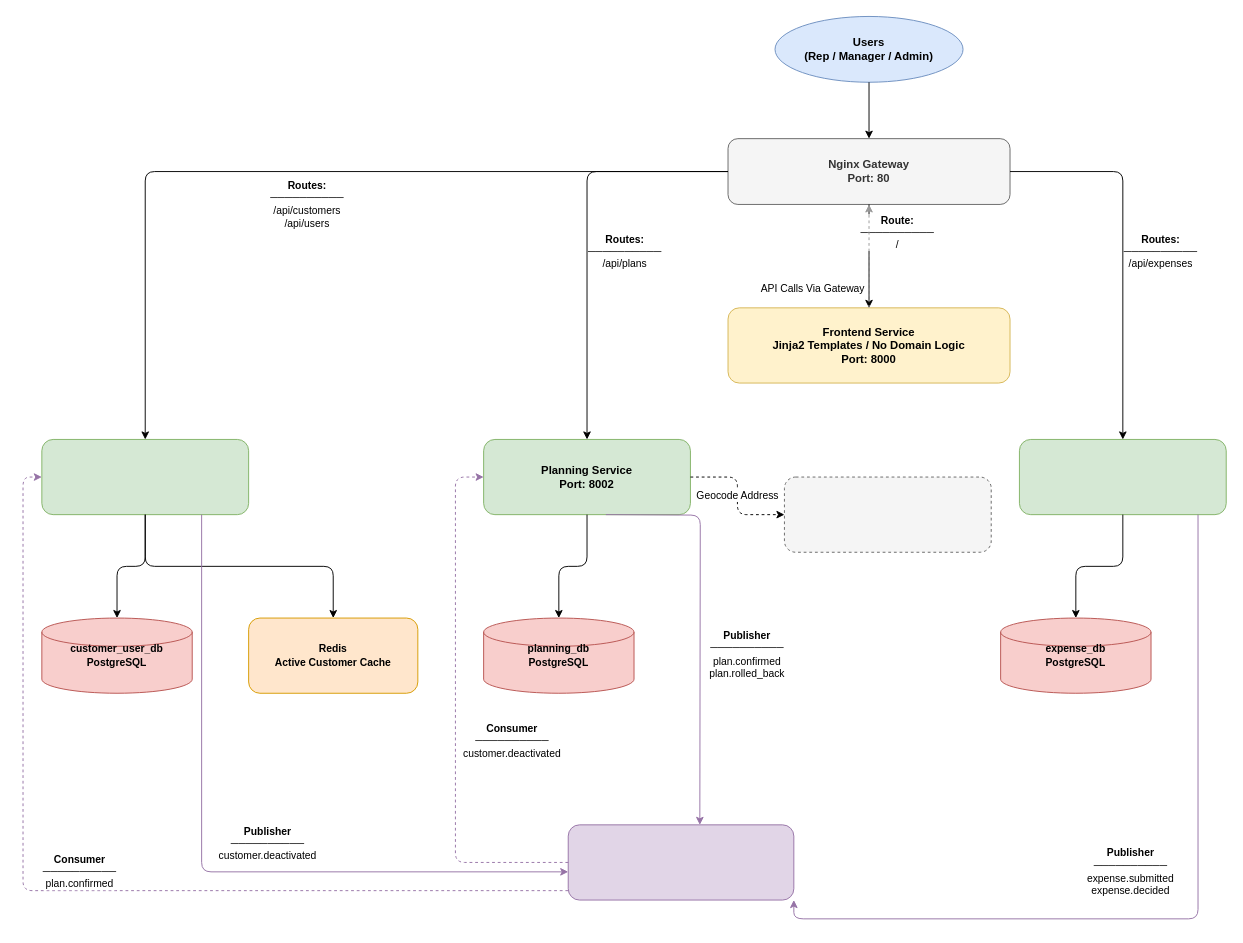
Image size: 1243x943. Some labels were removed from this diagram. Each missing label, with the box of its shape:
Customer & User Service Port: 8001: (41, 439, 249, 515)
Expense Service Port: 8003: (1018, 439, 1226, 515)
Google Maps API (External Service): (783, 476, 991, 552)
Kafka Message Broker: (567, 824, 794, 900)
